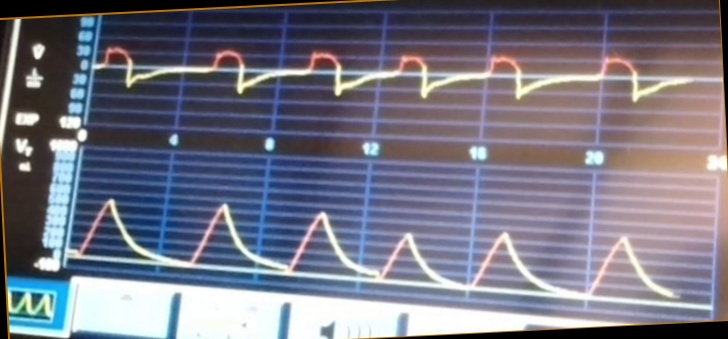Normal Flow: (97, 25, 713, 129)
Normal Volume: (72, 193, 676, 301)
